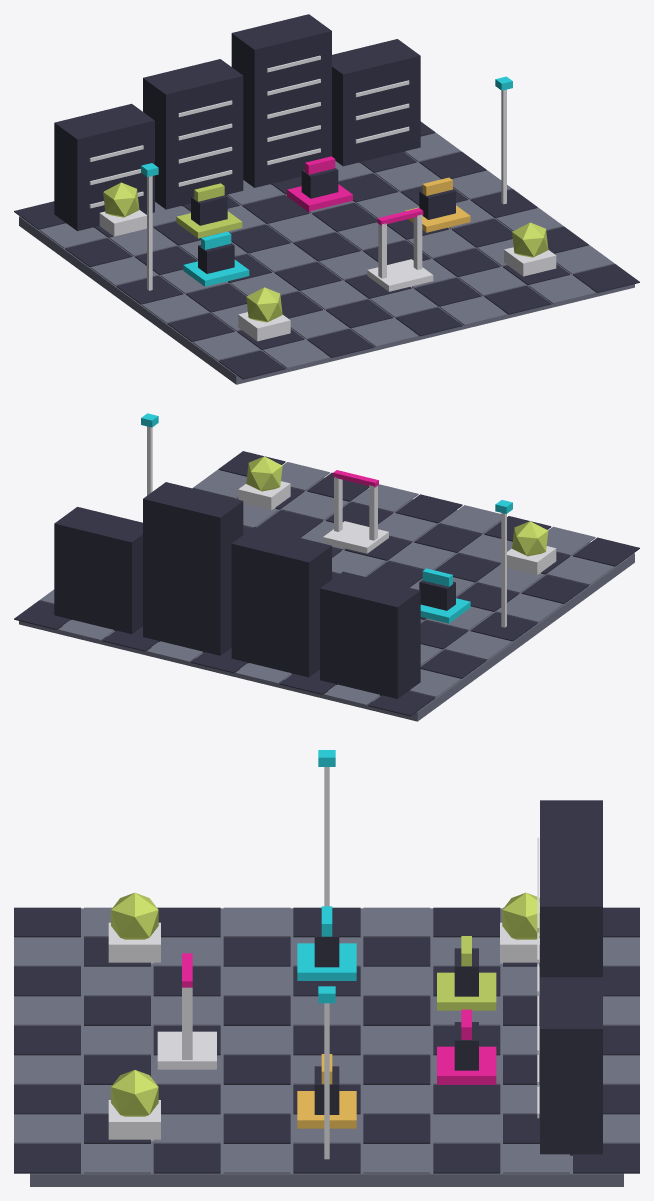
The model's file is safe_block.glb.
3 views of the same model, one above another, from view 1: azimuth 30°, elevation 25°; view 2: azimuth 150°, elevation 25°; view 3: azimuth 270°, elevation 25° (orthographic). The views are drawn at different scales.
Visible parts, largest first — view 1: SafeBuilding.002, SafeBuilding.001, SafeBuilding.003, SafeBuilding, SafeFloor, StationBase.004, Paving, Paving.006, Paving.031, Paving.037, Paving.040, Paving.009 (+70 smaller); view 2: SafeBuilding.002, SafeBuilding.001, SafeBuilding, SafeBuilding.003, SafeFloor, StationBase.004, Paving.028, Paving.036, Paving.005, Paving, Paving.001, Paving.002 (+45 smaller); view 3: SafeFloor, SafeBuilding.003, SafeBuilding.002, Paving.003, Paving.005, Paving.021, Paving.023, Paving, Paving.018, Paving.019, Paving.006, StationBase.004 (+85 smaller).
Boxes of the visible parts, x1,y1,x2,y2 form: SafeBuilding.002: [231, 14, 331, 187]; SafeBuilding.001: [143, 59, 243, 209]; SafeBuilding.003: [332, 39, 420, 166]; SafeBuilding: [54, 103, 154, 230]; SafeFloor: [19, 132, 634, 384]; StationBase.004: [367, 259, 433, 291]; Paving: [218, 350, 285, 379]; Paving.006: [65, 238, 132, 267]; Paving.031: [249, 243, 316, 272]; Paving.037: [370, 288, 437, 317]; Paving.040: [293, 232, 360, 261]; Paving.009: [263, 339, 329, 368]; SafeBuilding.002: [143, 482, 243, 655]; SafeBuilding.001: [231, 527, 331, 677]; SafeBuilding: [320, 571, 420, 698]; SafeBuilding.003: [54, 507, 142, 634]; SafeFloor: [19, 469, 634, 721]; StationBase.004: [323, 521, 388, 553]; Paving.028: [414, 524, 481, 552]; Paving.036: [395, 494, 462, 523]; Paving.005: [445, 631, 511, 660]; Paving: [573, 537, 639, 566]; Paving.001: [547, 556, 614, 585]; Paving.002: [521, 575, 588, 603]; SafeFloor: [30, 908, 623, 1186]; SafeBuilding.003: [540, 977, 602, 1155]; SafeBuilding.002: [540, 855, 602, 977]; Paving.003: [223, 907, 290, 937]; Paving.005: [363, 907, 430, 937]; Paving.021: [223, 966, 290, 996]; Paving.023: [363, 966, 430, 996]; Paving: [14, 907, 80, 937]; Paving.018: [14, 966, 80, 996]; Paving.019: [84, 966, 150, 996]; Paving.006: [433, 907, 500, 937]; StationBase.004: [157, 1031, 216, 1069].
Bounding box in the file's own units: 18 × 6.4 × 17.92.
